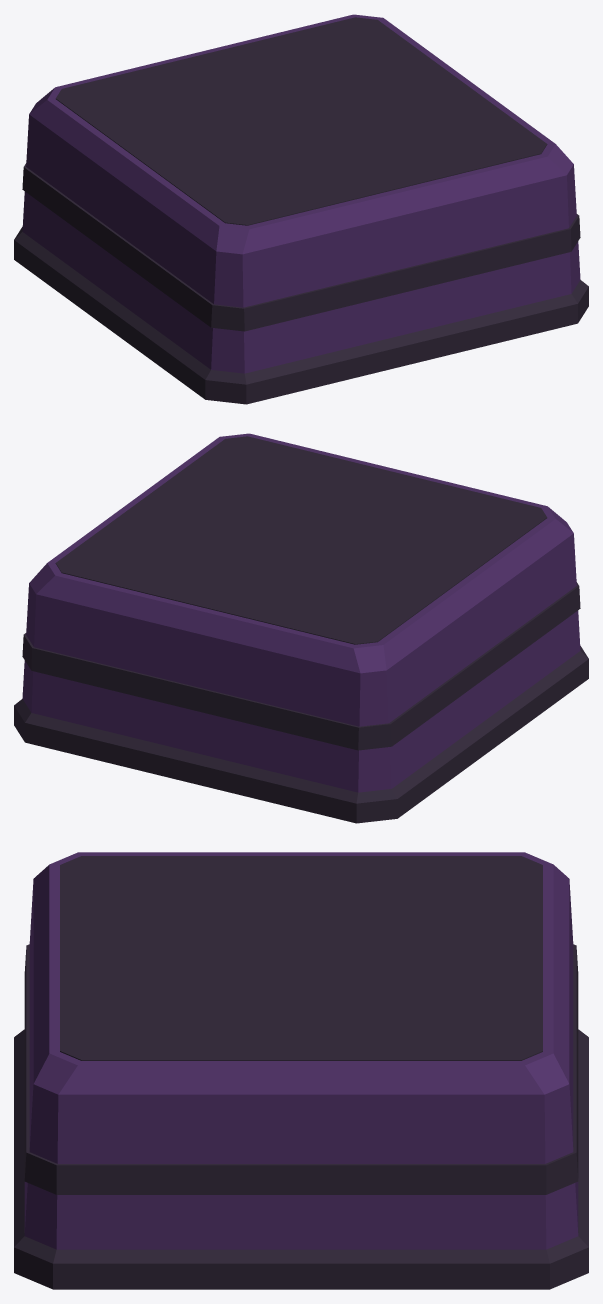
File: SM_SB_Kit_AlienPlinth_300x300x130.fbx
3 renders of one model, top to bottom at view 1: azimuth 30°, elevation 25°; view 2: azimuth 150°, elevation 25°; view 3: azimuth 270°, elevation 25°, orthographic. The views are drawn at different scales.
Visible parts, largest first — view 1: SM_SB_Kit_AlienPlinth_300x300x130; view 2: SM_SB_Kit_AlienPlinth_300x300x130; view 3: SM_SB_Kit_AlienPlinth_300x300x130.
Boxes of the visible parts, <box> form: SM_SB_Kit_AlienPlinth_300x300x130: <box>14,14,588,404</box>; SM_SB_Kit_AlienPlinth_300x300x130: <box>14,433,588,823</box>; SM_SB_Kit_AlienPlinth_300x300x130: <box>14,852,588,1289</box>.
Bounding box in the file's own units: 324 × 324 × 131.
